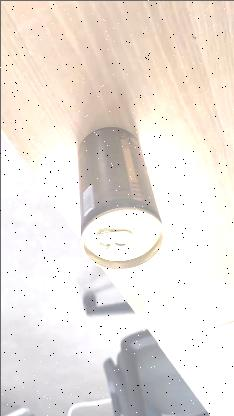Can: (74, 118, 164, 272)
